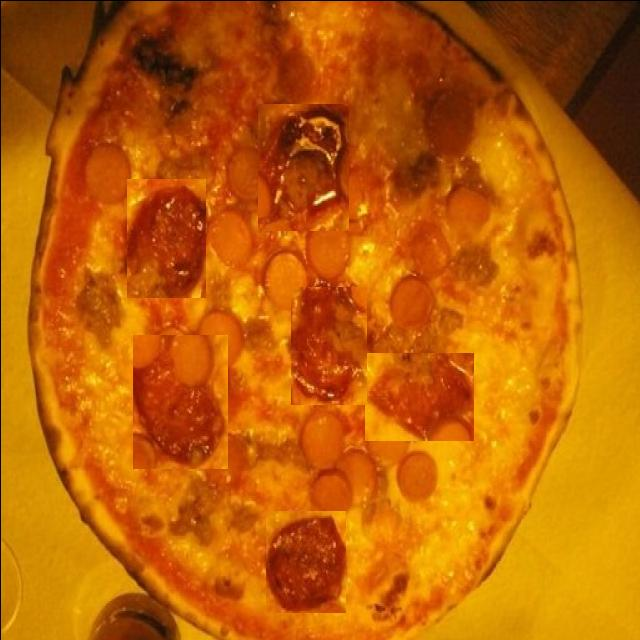pepperoni: (130, 333, 227, 468), (257, 103, 348, 230), (364, 352, 473, 440), (124, 178, 204, 297), (290, 286, 366, 404), (265, 510, 345, 612)
pizza: (24, 0, 584, 640)
